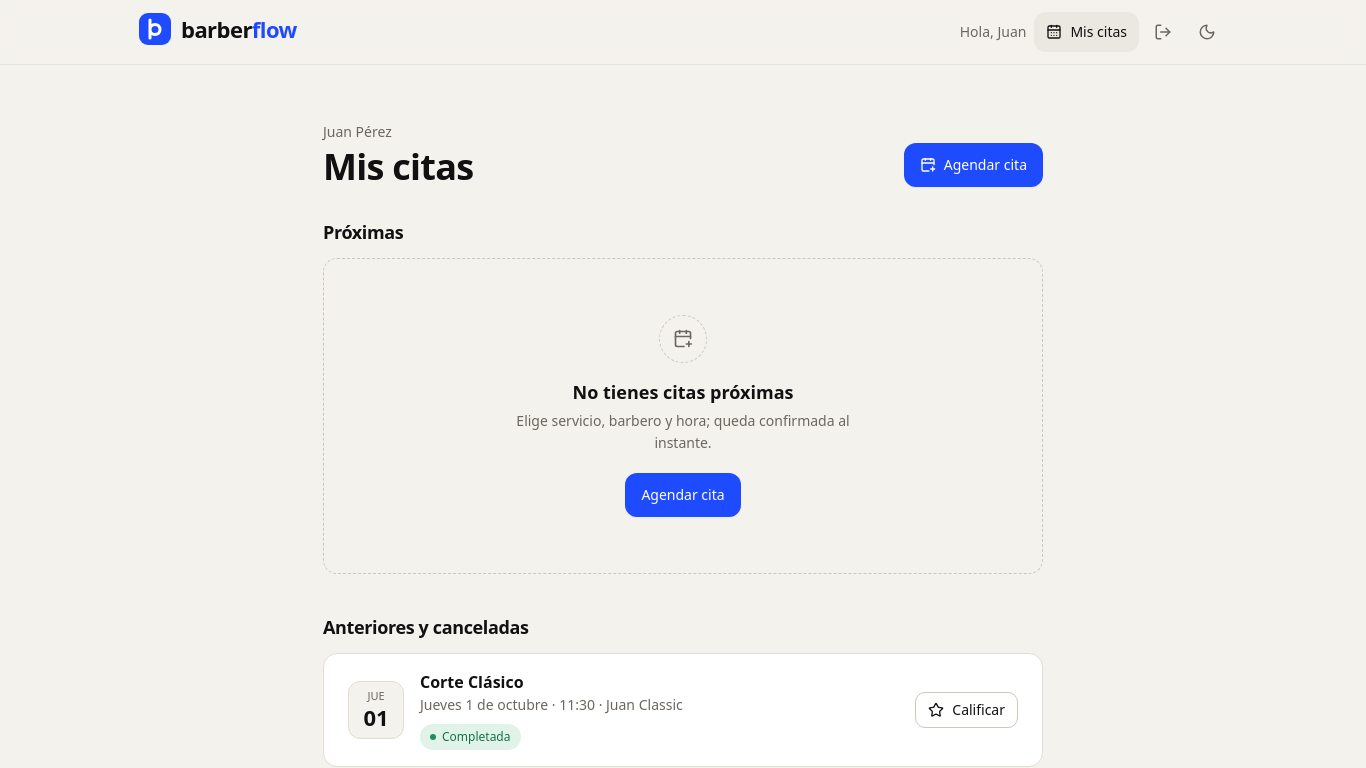
Test: calificar una cita completada › envía las estrellas y el comentario
Step 1. Click the button "Calificar" → point(967, 710), box 915,692 -> 1018,728
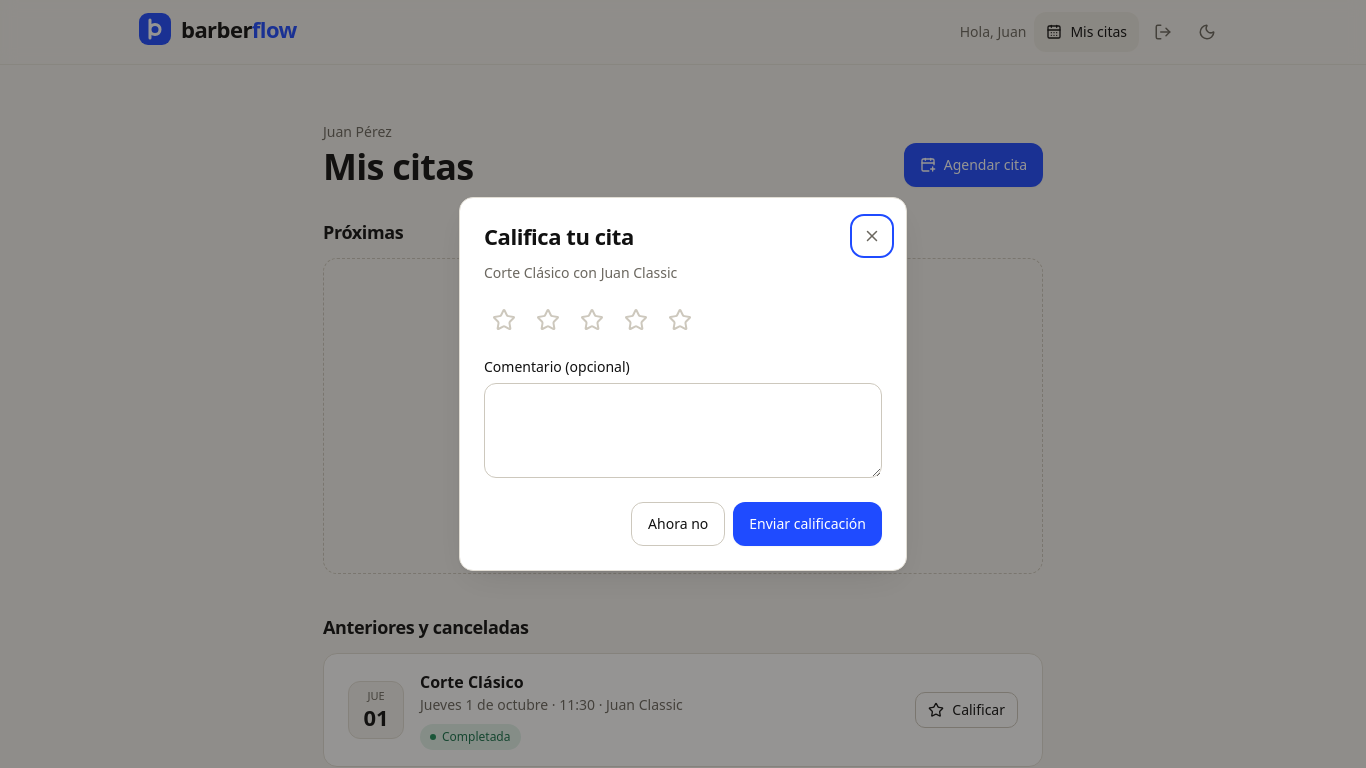
Step 2. Click the radio button named "5 estrellas" → point(680, 320), box 660,300 -> 700,340
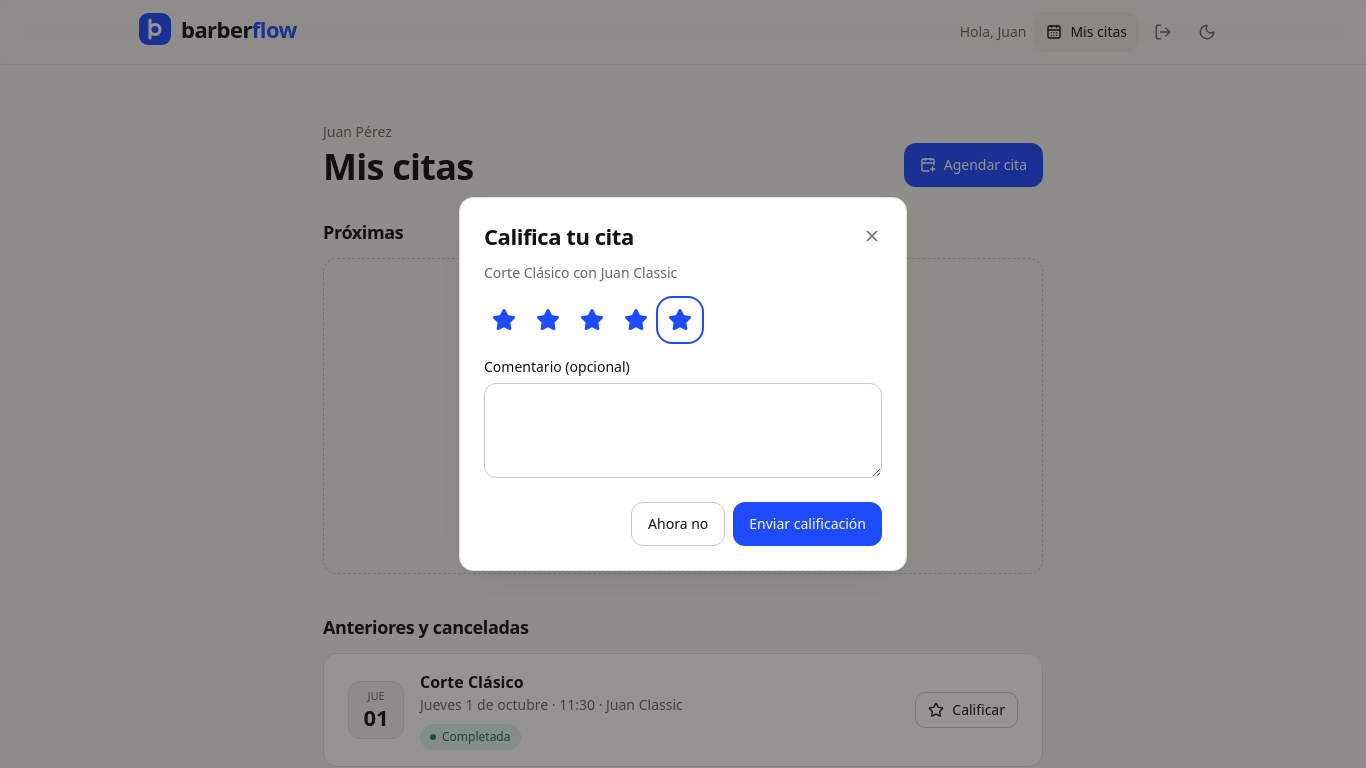
Step 3. Type "Excelente corte" into the text box labelled "Comentario (opcional)" → point(683, 431), box 484,383 -> 882,478
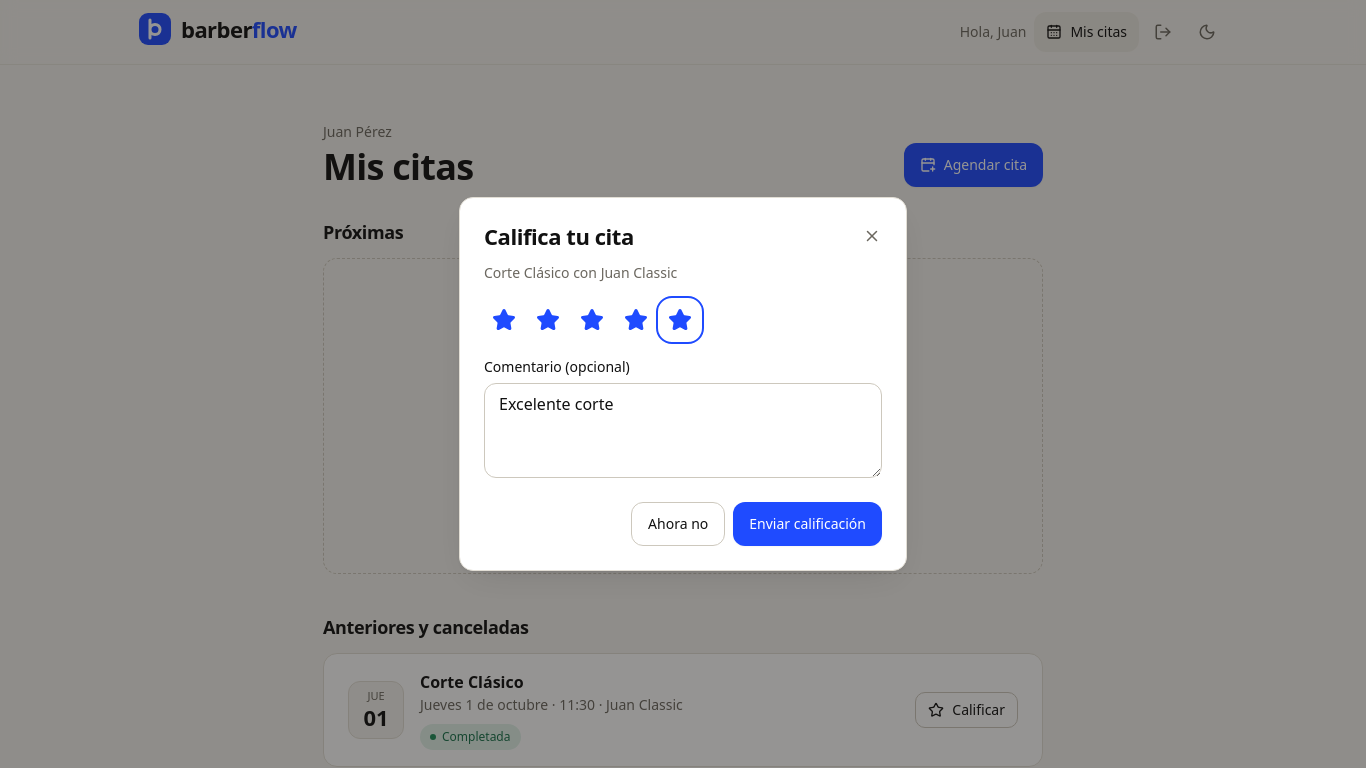
Step 4. Click the button "Enviar calificación" → point(808, 524), box 733,502 -> 882,546
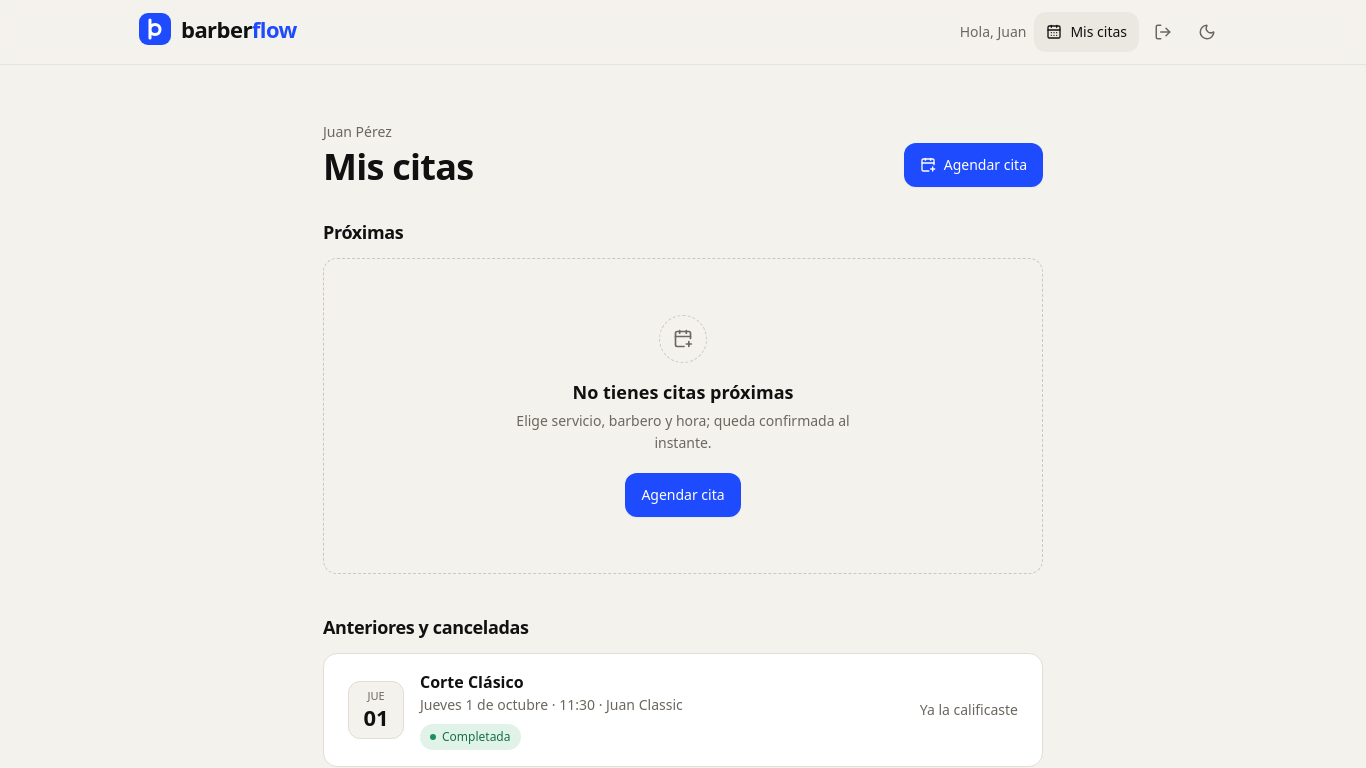
Check: the text "Ya la calificaste" is shown, box 920,699 -> 1018,721
